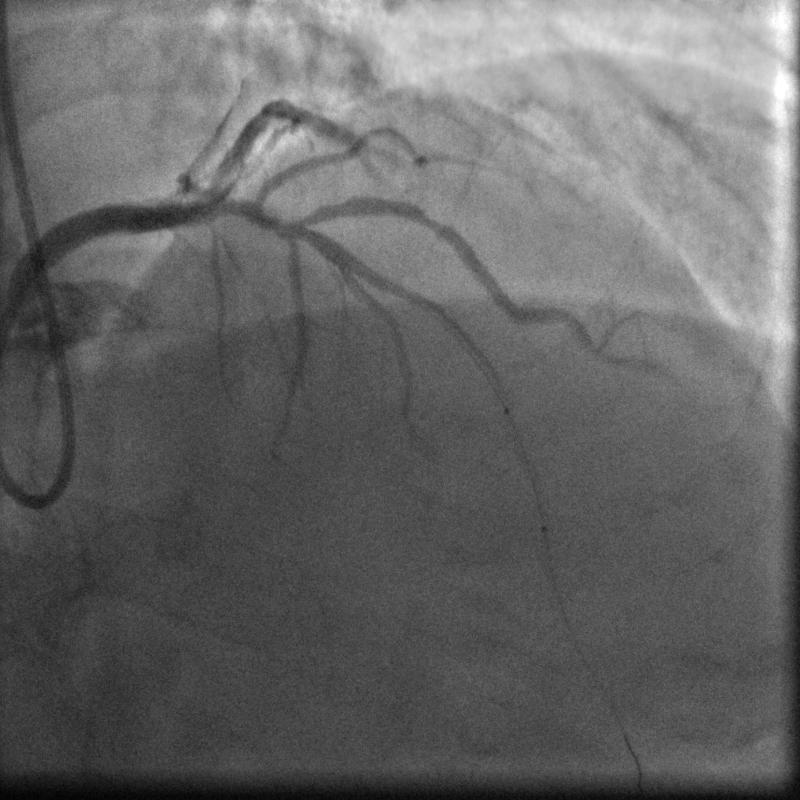Stenosis: (409, 197, 447, 240)
